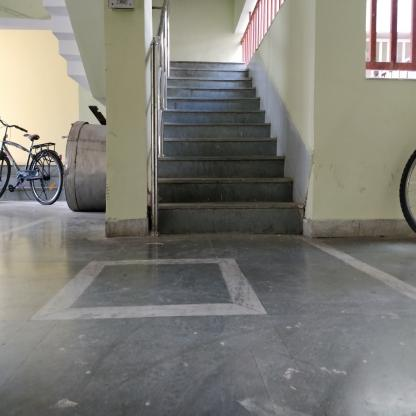stairs: (171, 59, 245, 242)
